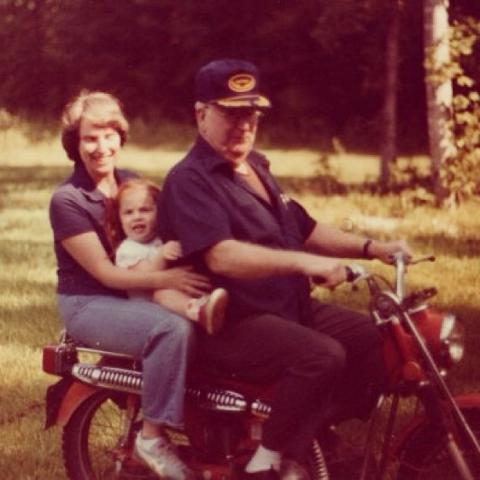motorcycle: (42, 252, 478, 473)
